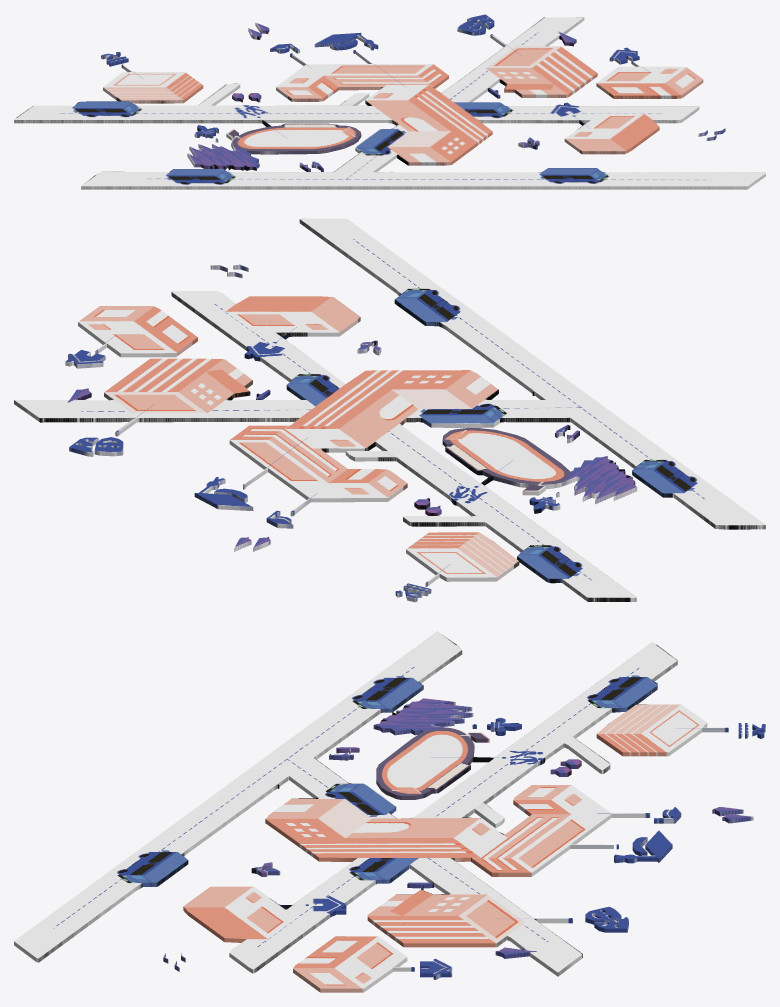
Rendered from mepo_ecosystem.glb.
3 renders of one model, top to bottom at view 1: azimuth 30°, elevation 25°; view 2: azimuth 150°, elevation 25°; view 3: azimuth 270°, elevation 25°, orthographic. The views are drawn at different scales.
Bounding box in the file's own units: 0.1725 × 0.000924 × 0.1534.
1 material, 1 textured.
